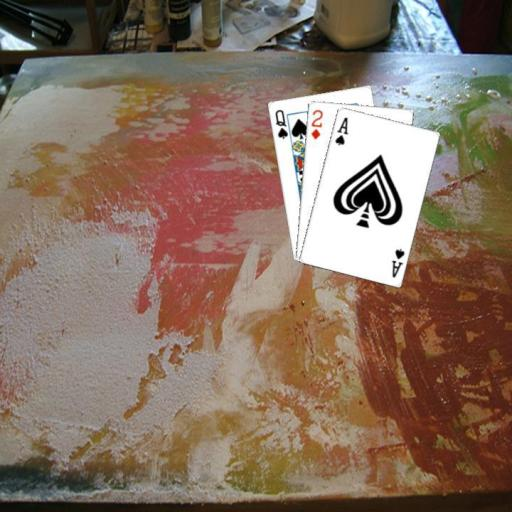2D: (308, 106, 323, 141)
AS: (388, 245, 406, 279), (332, 114, 350, 146)
QS: (272, 106, 289, 140)
